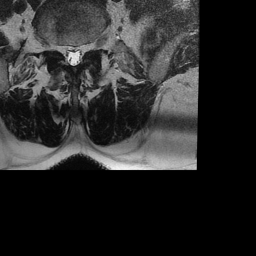CCS_normal: (69, 39, 77, 71)
LFS_normal: (85, 36, 93, 58)
LLS_normal: (77, 39, 85, 68)
RFS_normal: (52, 35, 61, 58)
RLS_normal: (61, 39, 69, 67)
